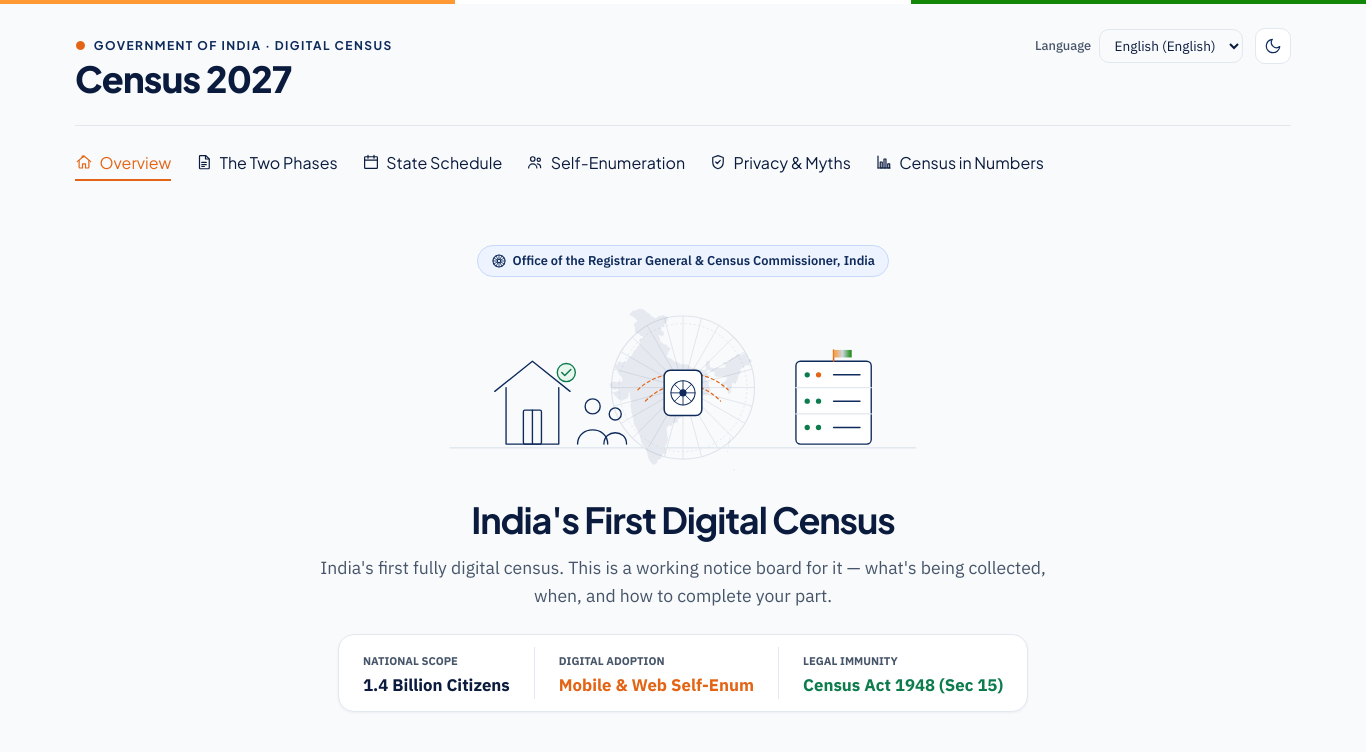
Test: LanguageSwitcher & Multi-language i18n › updates page copy across the application when changing language to Hindi
Expected: the heading "Census 2027" is shown, [75,56,292,101]
Expected: the link "The Two Phases" is shown, [195,150,338,181]
# Switch to Hindi
Select "हिन्दी (Hindi)" in the dropdown named "select display language". click: (1171, 46)
box: [1099,29,1243,63]
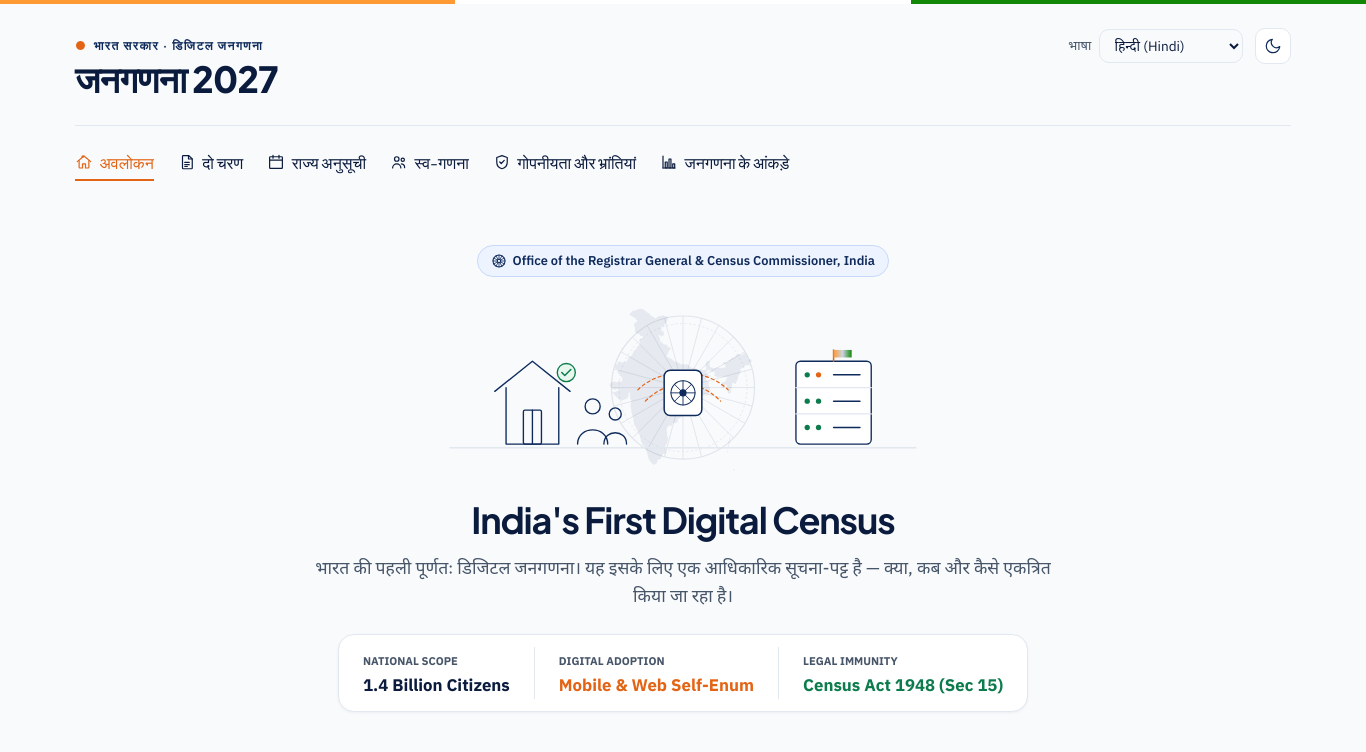
Expected: the heading "जनगणना 2027" is shown, [75,57,278,100]
Expected: the link "दो चरण" is shown, [178,150,243,181]
Expected: the link "स्व-गणना" is shown, [390,150,469,181]
